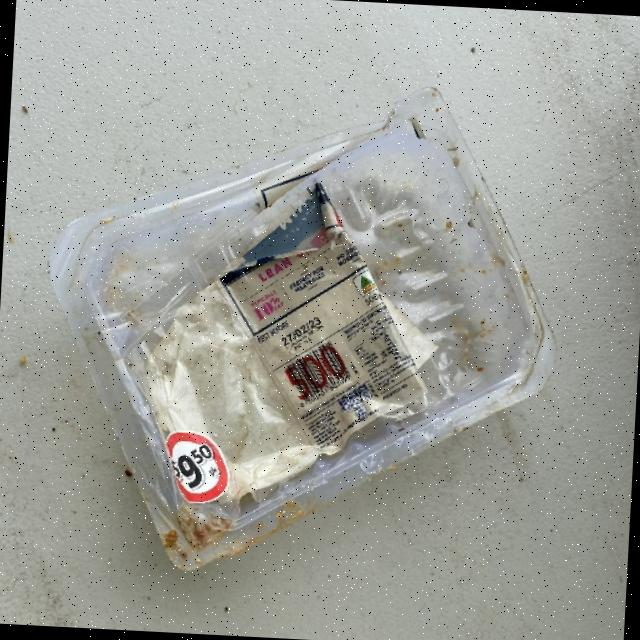plastic: (32, 66, 569, 590)
